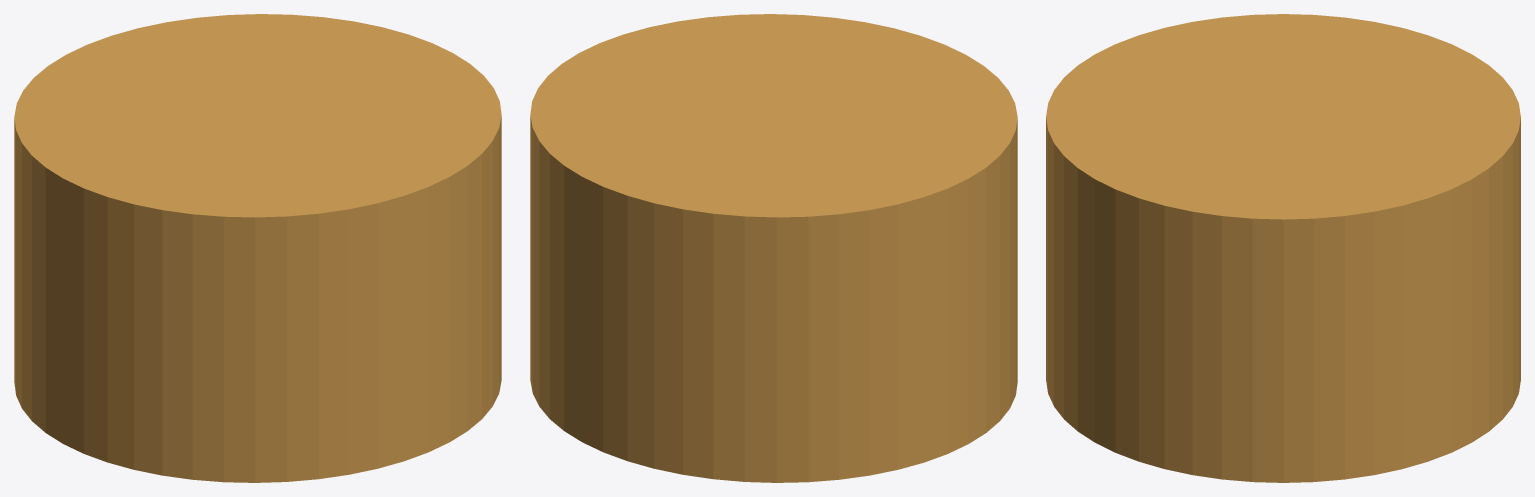
The model's file is Grand Rottis.glb.
3 renders of one model, left to right at view 1: azimuth 30°, elevation 25°; view 2: azimuth 150°, elevation 25°; view 3: azimuth 270°, elevation 25°, orthographic.
Parts seen in each view (by area): view 1: Mesh_Mesh_head_geo.001_lambert2SG.001; view 2: Mesh_Mesh_head_geo.001_lambert2SG.001; view 3: Mesh_Mesh_head_geo.001_lambert2SG.001.
Boxes of the visible parts, x1,y1,x2,y2 form: Mesh_Mesh_head_geo.001_lambert2SG.001: [14, 14, 501, 482]; Mesh_Mesh_head_geo.001_lambert2SG.001: [530, 14, 1017, 482]; Mesh_Mesh_head_geo.001_lambert2SG.001: [1046, 14, 1520, 482].
Size of the model in its own units: 0.169 by 0.101 by 0.165.
